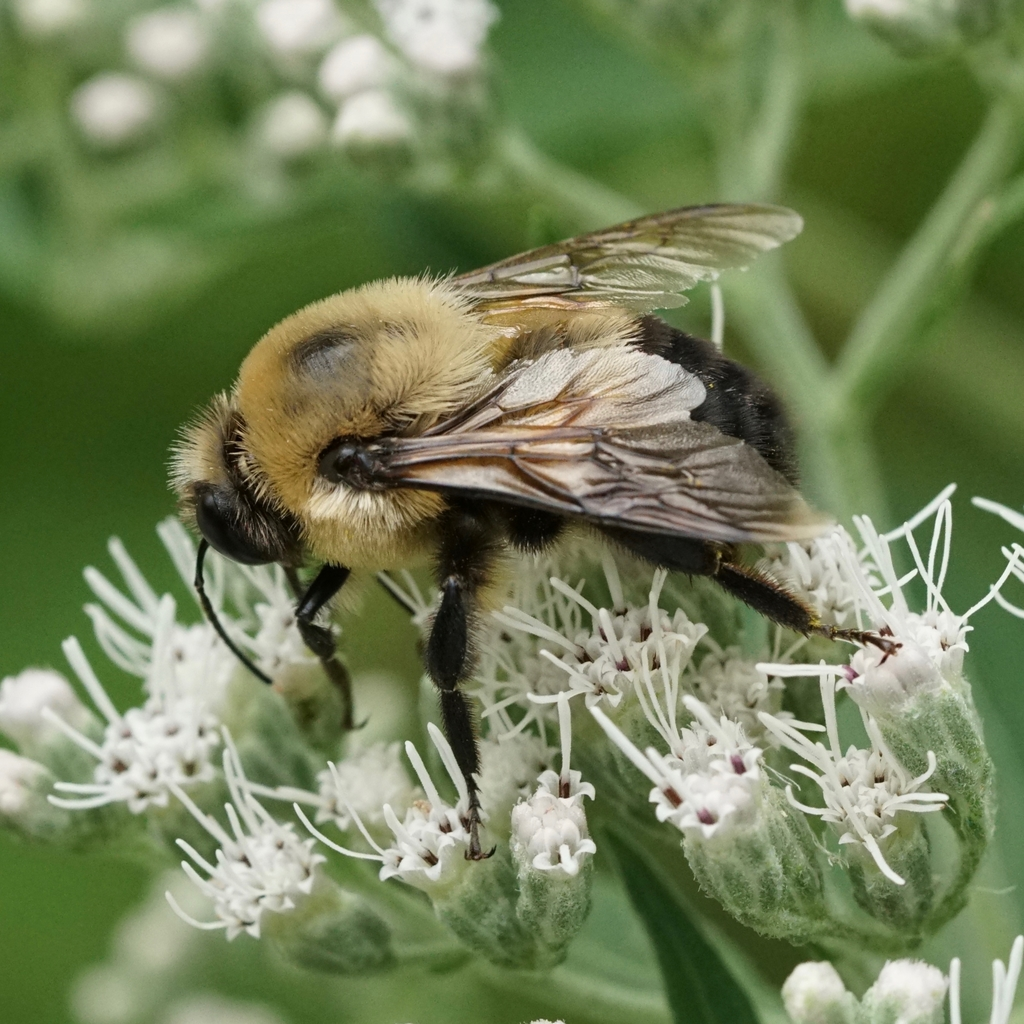bumblebee: (168, 199, 905, 863)
